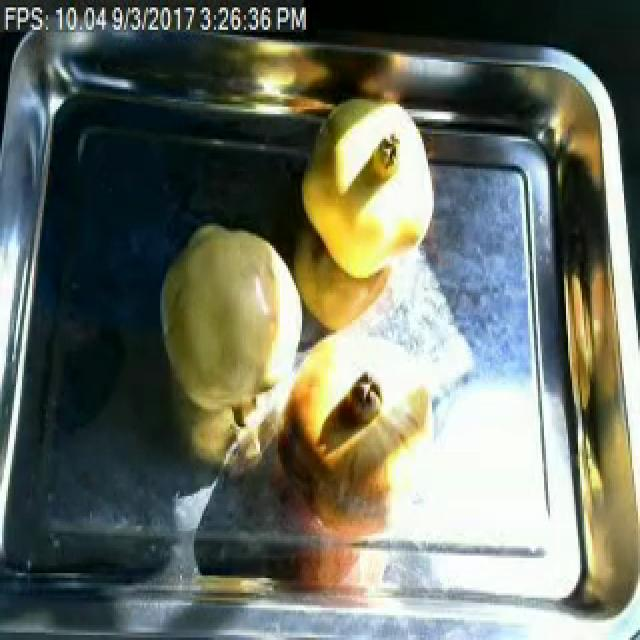fruit: (264, 328, 452, 560), (150, 208, 298, 439), (296, 87, 440, 293)
